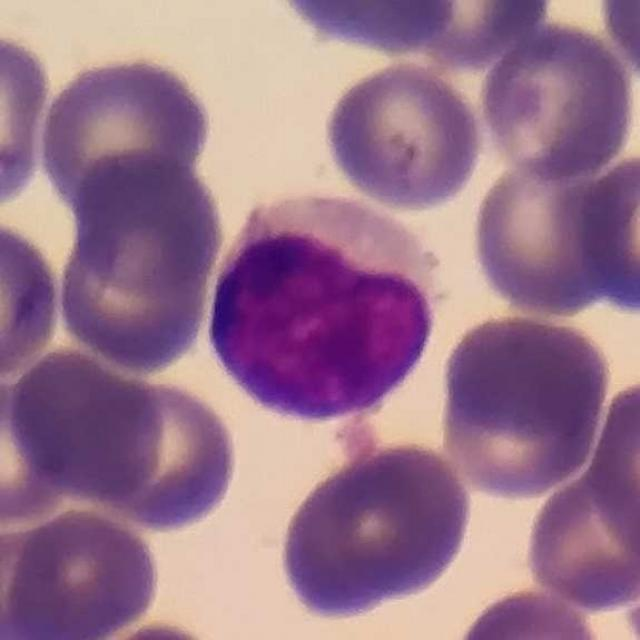Lymphocyte: (197, 185, 450, 435)
RBC: (52, 156, 227, 376), (272, 440, 478, 626), (434, 307, 613, 503), (35, 49, 217, 218), (466, 144, 631, 320), (3, 344, 168, 510), (475, 16, 639, 182), (79, 372, 244, 534), (318, 58, 488, 214), (2, 505, 164, 640), (522, 462, 640, 613), (0, 370, 75, 528), (572, 149, 640, 320), (0, 212, 67, 382), (387, 0, 552, 69), (0, 23, 56, 215), (584, 374, 640, 565), (283, 1, 463, 56), (0, 521, 78, 639), (447, 583, 608, 640), (594, 0, 639, 92), (72, 617, 229, 640)
